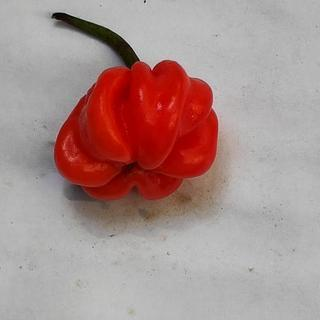Grade-B: (50, 56, 223, 203)
